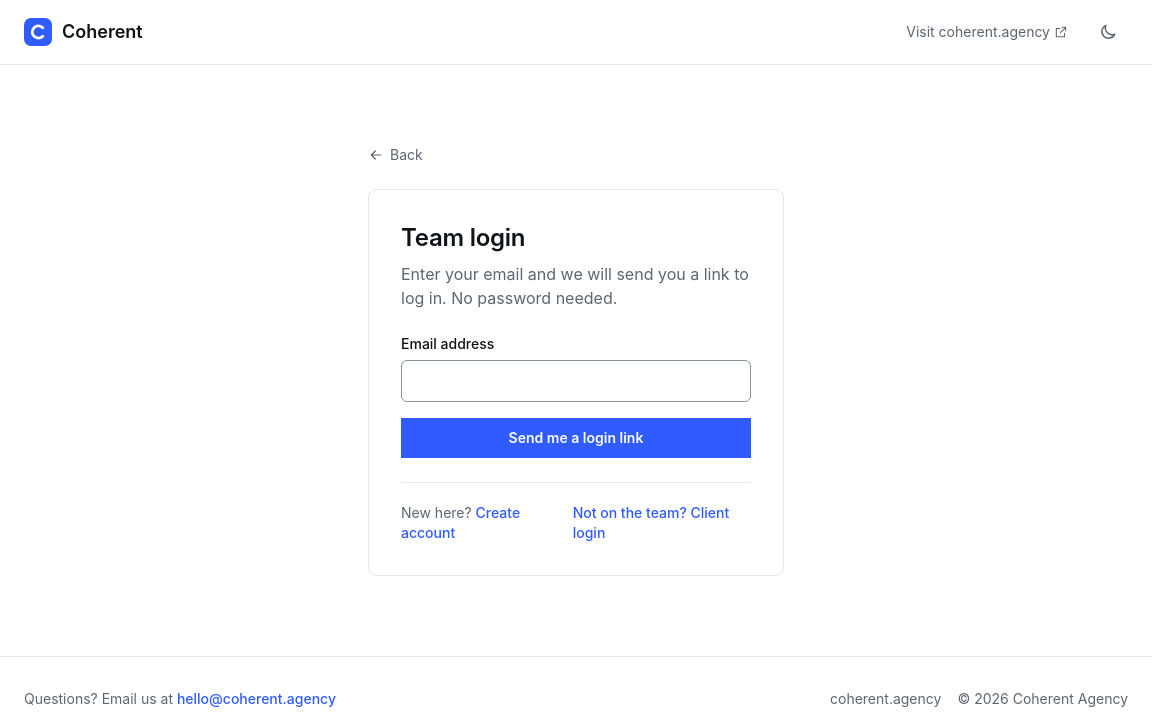
Scenario: login › a known email shows "Check your email" with a resend cooldown
The width and height of the screenshot is (1152, 720).
Type "will@coherent.test" into the field labelled "Email address".
click(576, 381); type("will@coherent.test")  # box [401,360,751,402]
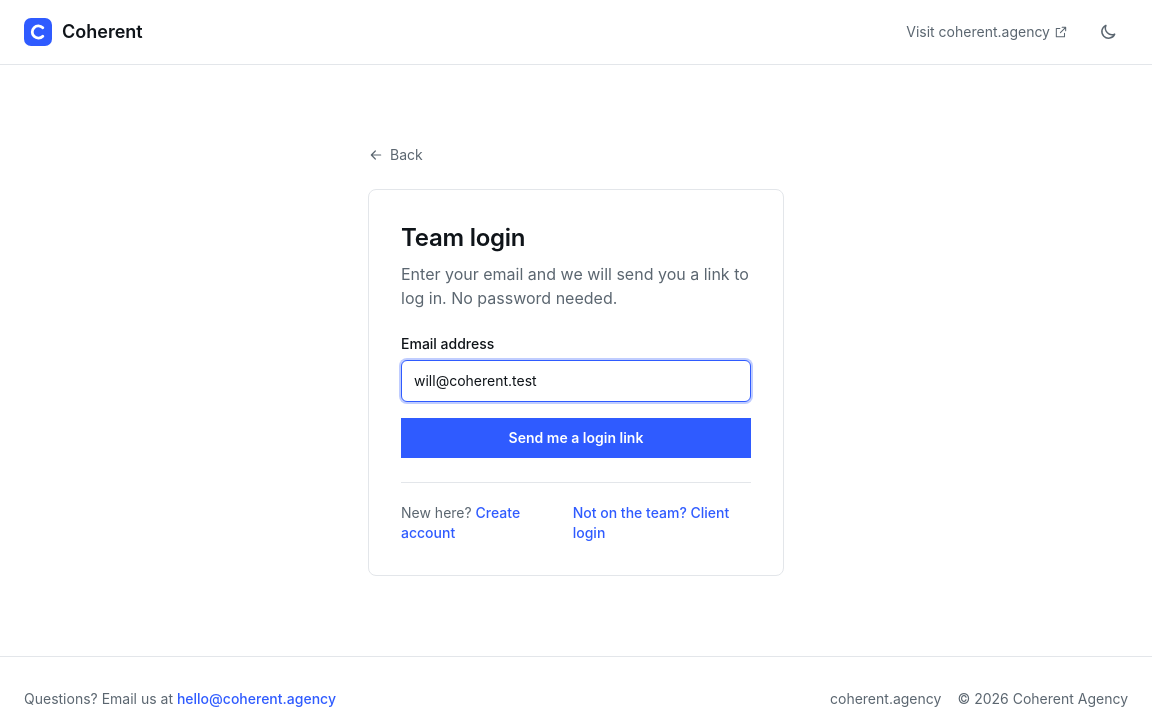
Click the button "Send me a login link".
click(576, 438)  # box [401,418,751,458]
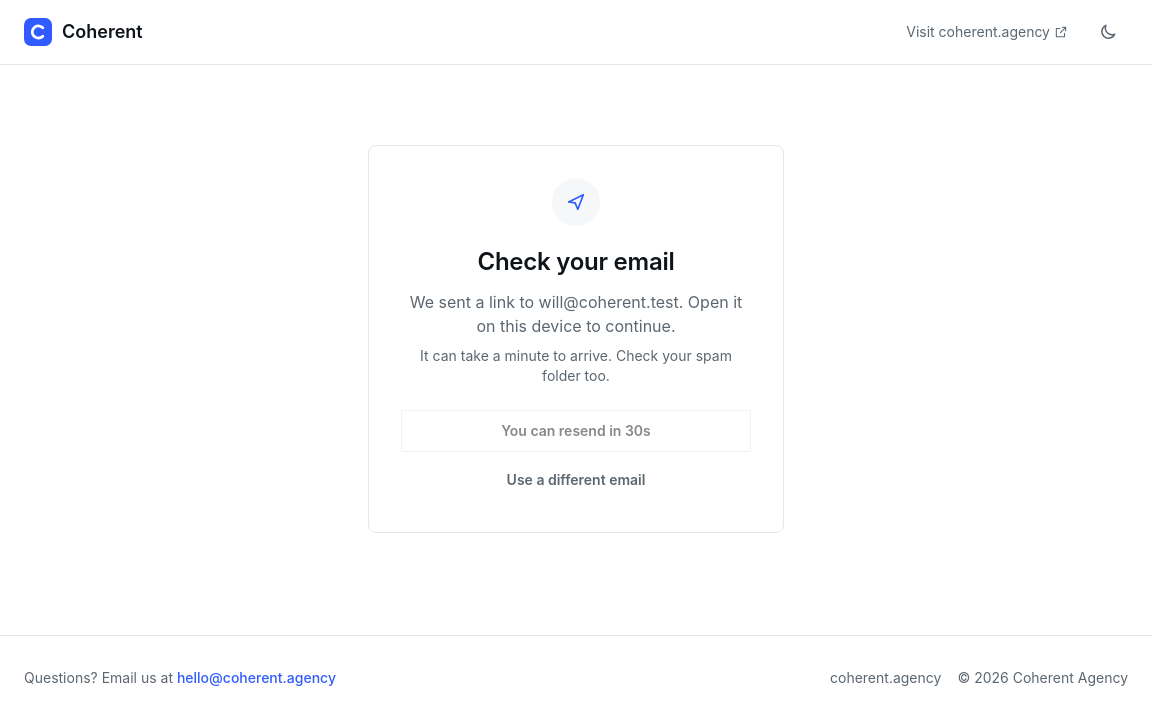
Now the heading "Check your email" is shown, box [477,247,674,276]
Now the button "You can resend in 30s" is disabled, box [401,410,751,452]
